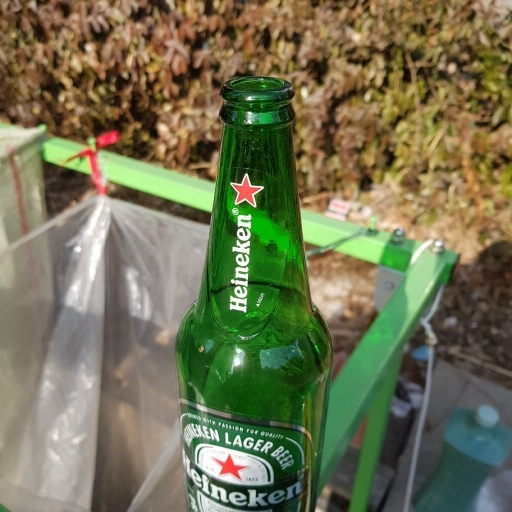Glass_1: (176, 78, 333, 512)
